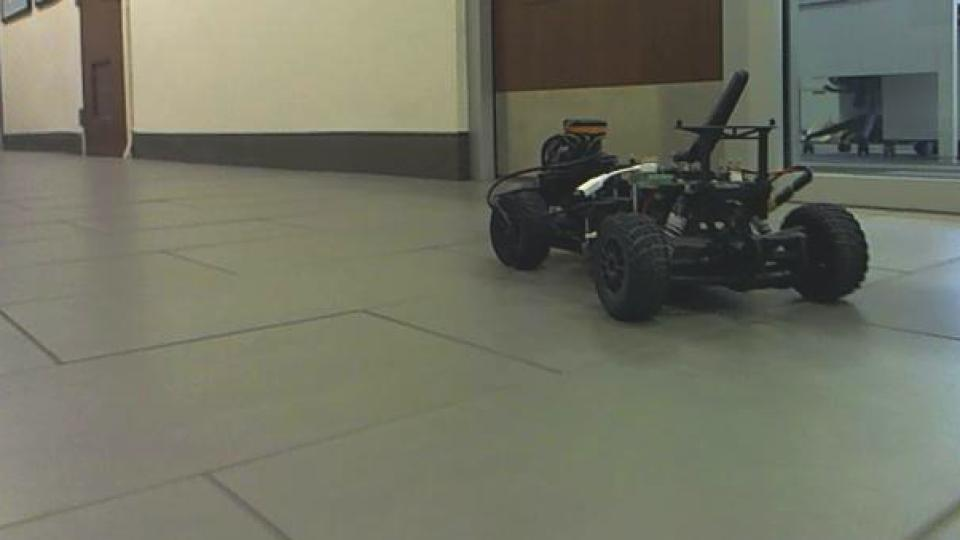car: (485, 66, 874, 324)
